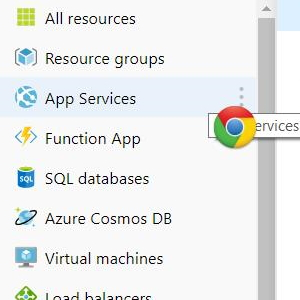chrome: (213, 105, 256, 150)
